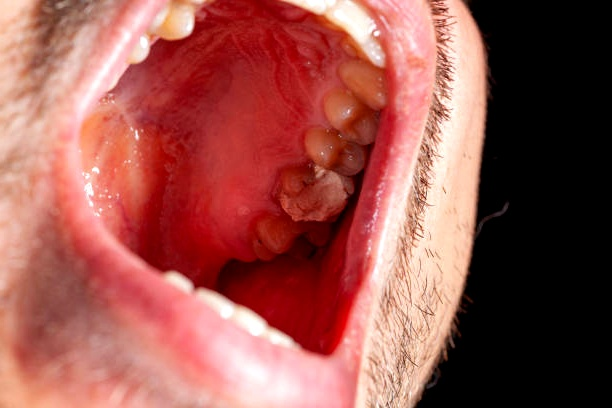Caries: (271, 142, 371, 227)
